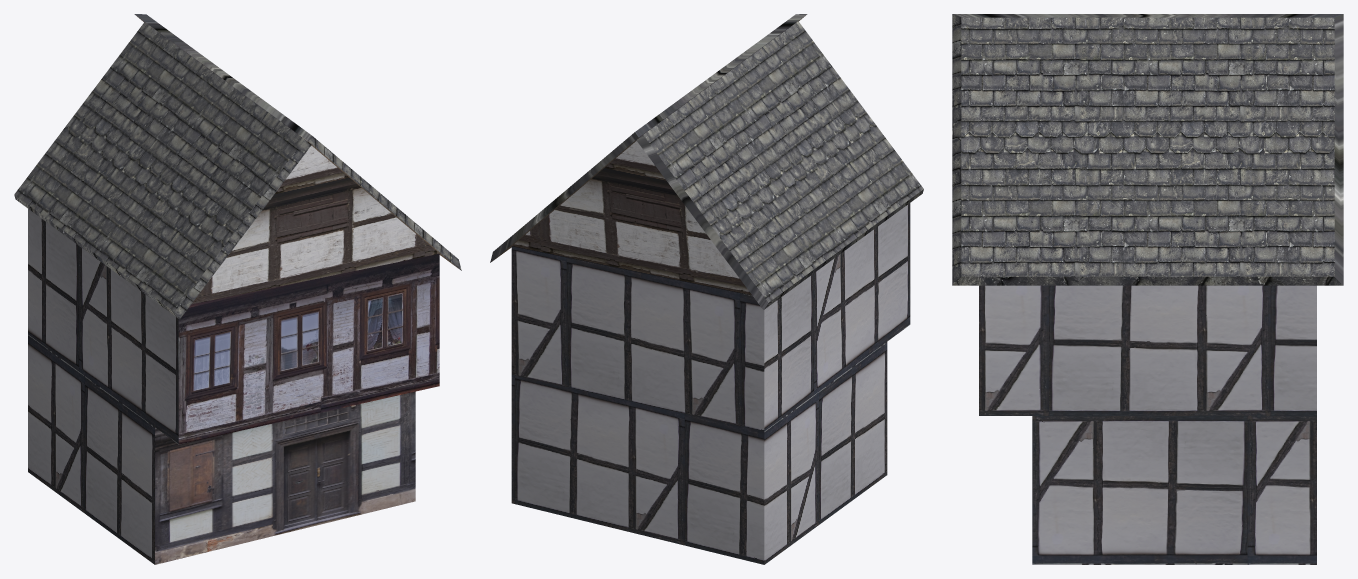
File: house1.fbx
3 views of the same model, side by side, from view 1: azimuth 30°, elevation 25°; view 2: azimuth 150°, elevation 25°; view 3: azimuth 270°, elevation 25° (orthographic). The views are drawn at different scales.
Visible parts, largest first — view 1: house 1; view 2: house 1; view 3: house 1.
Part boxes in pixels (left/top/right/bottom): house 1: left=14, top=14, right=461, bottom=564; house 1: left=490, top=14, right=923, bottom=564; house 1: left=952, top=14, right=1343, bottom=564.
Bounding box in the file's own units: 1079 × 1544 × 1157.
Materials: 6 (6 with a texture image).
